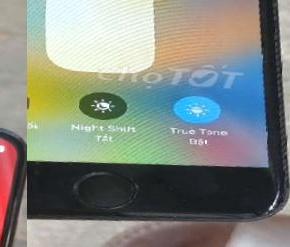scratch: (119, 195, 269, 231), (253, 178, 290, 216)
